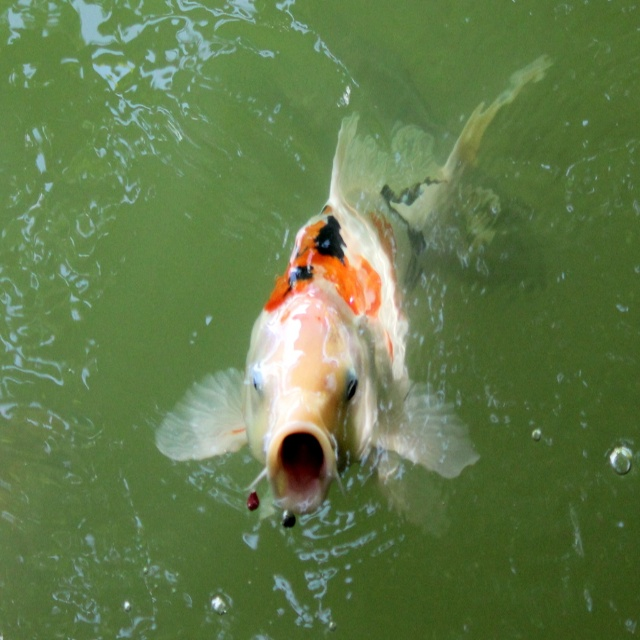Fish: (155, 53, 555, 515)
